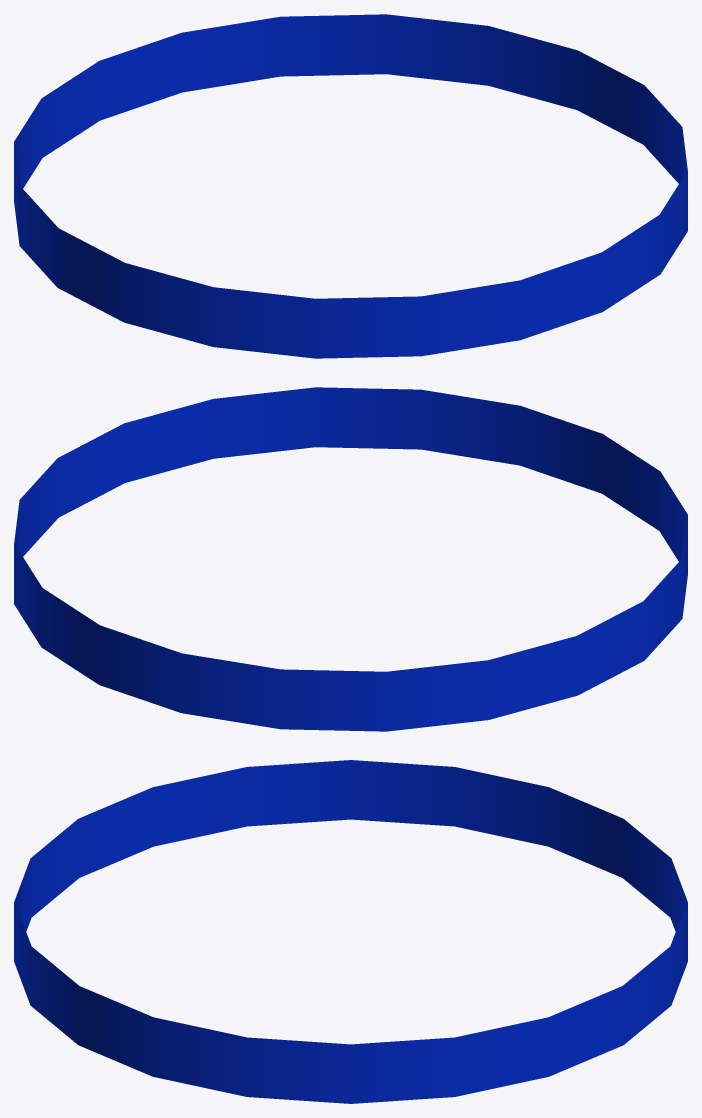
The model's file is Candle_Stick_01B_Lod0.fbx.
The picture shows the model from 3 angles, top to bottom: view 1: azimuth 30°, elevation 25°; view 2: azimuth 150°, elevation 25°; view 3: azimuth 270°, elevation 25°; orthographic projection.
Visible parts, largest first — view 1: Candle_Stick_01B_Lod0; view 2: Candle_Stick_01B_Lod0; view 3: Candle_Stick_01B_Lod0.
Boxes of the visible parts, left/top/right/bottom form: Candle_Stick_01B_Lod0: left=14, top=14, right=687, bottom=358; Candle_Stick_01B_Lod0: left=14, top=387, right=687, bottom=731; Candle_Stick_01B_Lod0: left=14, top=760, right=687, bottom=1103.
Bounding box in the file's own units: 141 × 13.66 × 141.
